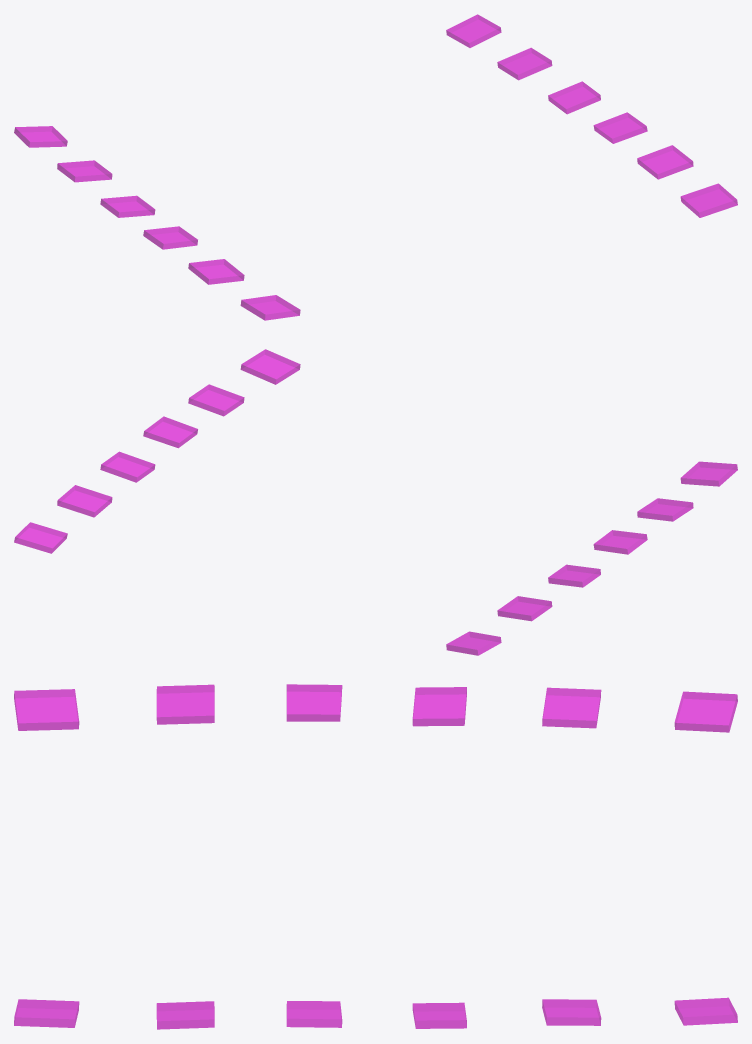
File: SM_Veh_Ship_L_Cannon_Hatch_Open_01_Collision.fbx
3 views of the same model, one above another, from view 1: azimuth 30°, elevation 25°; view 2: azimuth 150°, elevation 25°; view 3: azimuth 270°, elevation 25° (orthographic). The views are drawn at different scales.
Parts seen in each view (by area): view 1: SM_Veh_Ship_L_Cannon_Hatch_Open_01_Collision; view 2: SM_Veh_Ship_L_Cannon_Hatch_Open_01_Collision; view 3: SM_Veh_Ship_L_Cannon_Hatch_Open_01_Collision.
Part boxes in pixels (bbox=[...]): SM_Veh_Ship_L_Cannon_Hatch_Open_01_Collision: bbox=[14, 14, 737, 320]; SM_Veh_Ship_L_Cannon_Hatch_Open_01_Collision: bbox=[14, 349, 737, 655]; SM_Veh_Ship_L_Cannon_Hatch_Open_01_Collision: bbox=[14, 684, 737, 1029].
Bounding box in the file's own units: 1412 × 35.63 × 1287.
